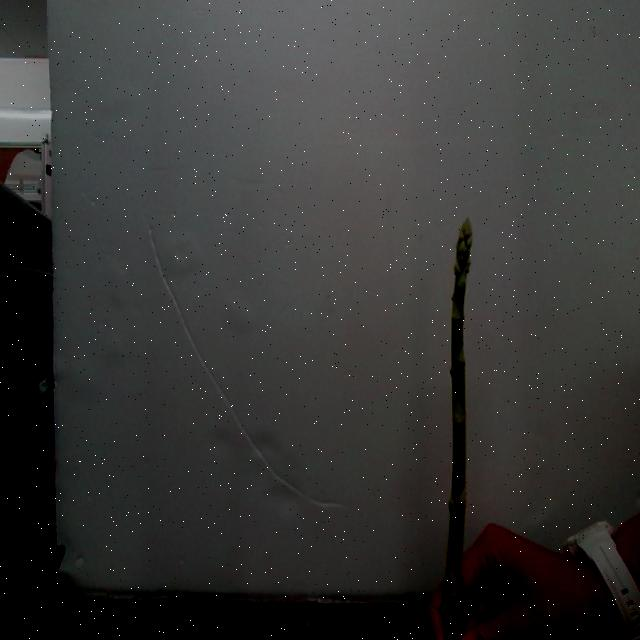aspargus: (439, 221, 473, 640)
